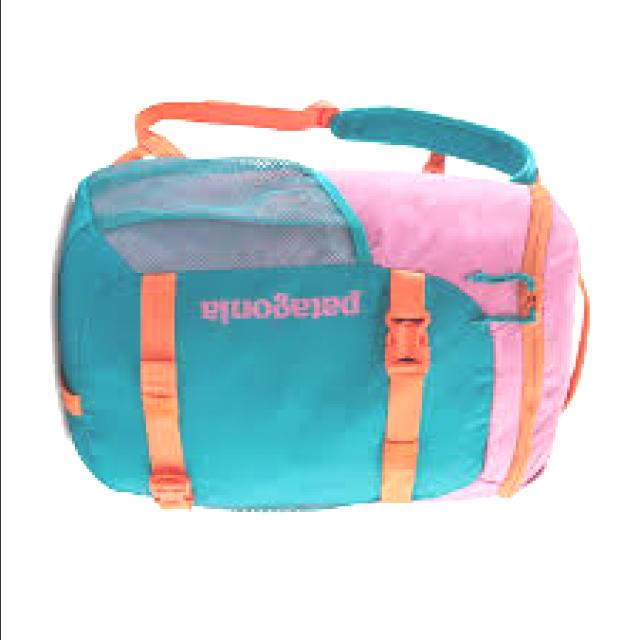backpack: (58, 98, 593, 514)
